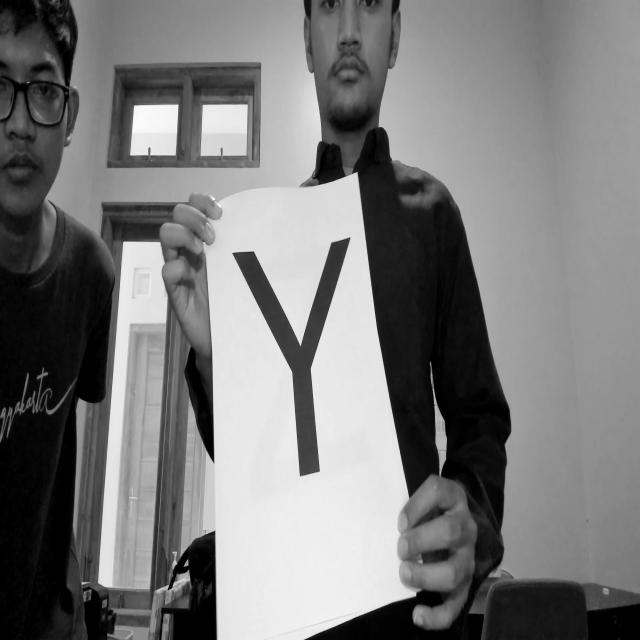y: (229, 229, 362, 496)
